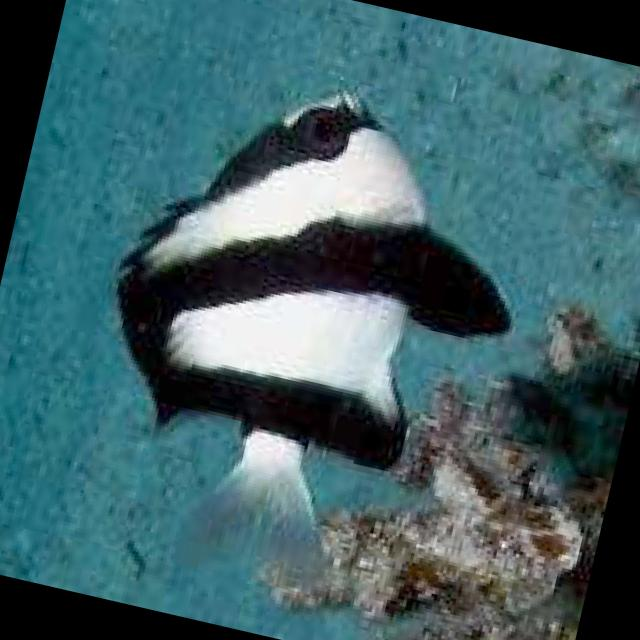ThreeStripedDamselfish: (50, 44, 558, 630)
